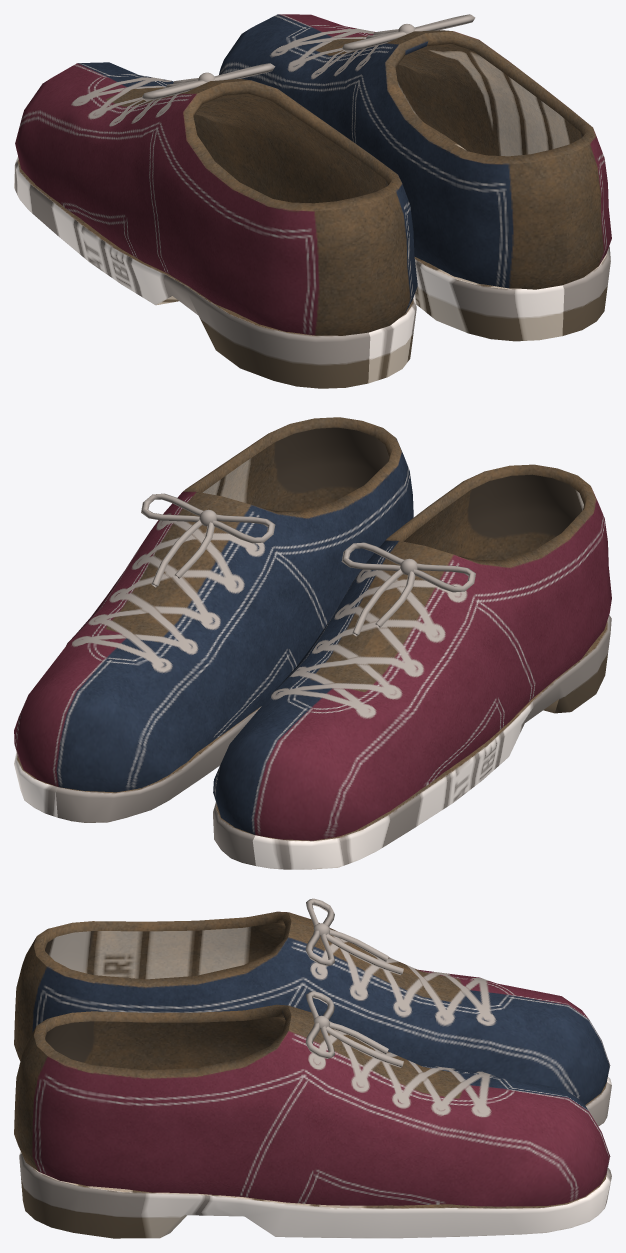
File: SM_BowlingShoesA1.fbx
3 renders of one model, top to bottom at view 1: azimuth 30°, elevation 25°; view 2: azimuth 150°, elevation 25°; view 3: azimuth 270°, elevation 25°, orthographic. The views are drawn at different scales.
Parts seen in each view (by area): view 1: SM_BowlingShoesA1_LOD0; view 2: SM_BowlingShoesA1_LOD0; view 3: SM_BowlingShoesA1_LOD0.
Boxes of the visible parts, box(x1,y1,x2,y2) form: SM_BowlingShoesA1_LOD0: box(14, 14, 611, 388); SM_BowlingShoesA1_LOD0: box(14, 417, 611, 869); SM_BowlingShoesA1_LOD0: box(14, 898, 611, 1238).
Bounding box in the file's own units: 21.17 × 30.73 × 10.65.
1 material, 1 textured.
